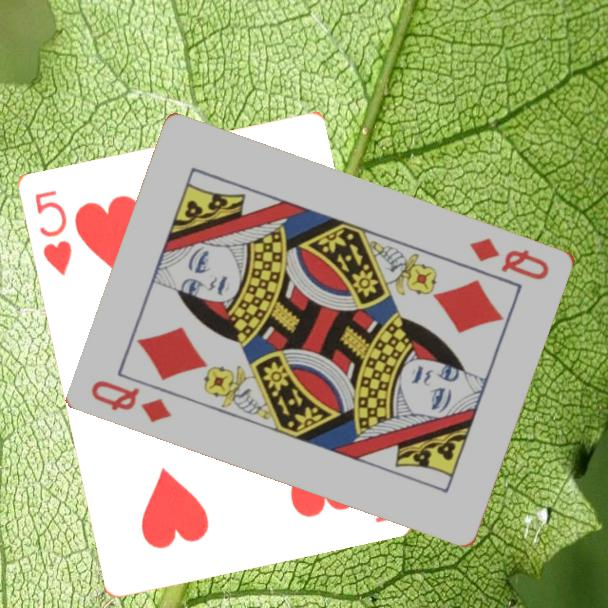d12: (88, 376, 176, 426), (466, 234, 553, 283)
h05: (30, 186, 74, 278)
